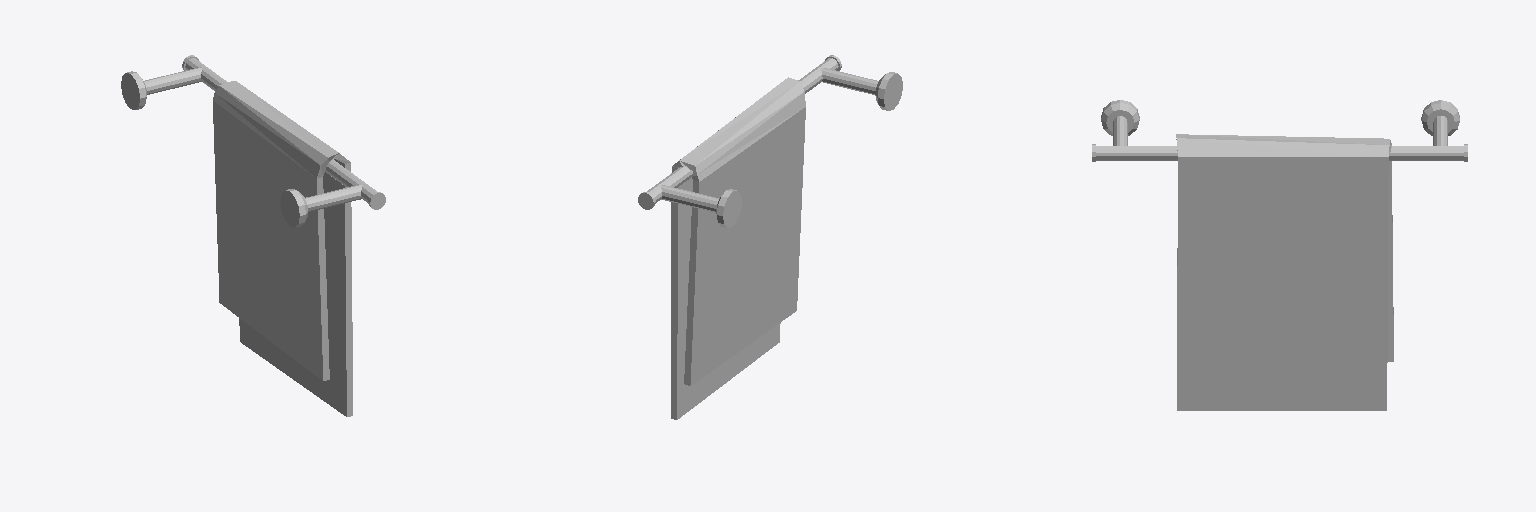
The model's file is towel.obj.
3 renders of one model, left to right at view 1: azimuth 30°, elevation 25°; view 2: azimuth 150°, elevation 25°; view 3: azimuth 270°, elevation 25°, orthographic.
Bounding box in the file's own units: 0.5664 × 1.59 × 2.02.